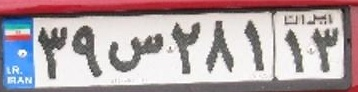character: (104, 28, 167, 76), (69, 22, 107, 83), (167, 17, 204, 79), (202, 14, 237, 78), (34, 22, 70, 82), (236, 17, 270, 76), (309, 23, 340, 76), (281, 27, 308, 75)
